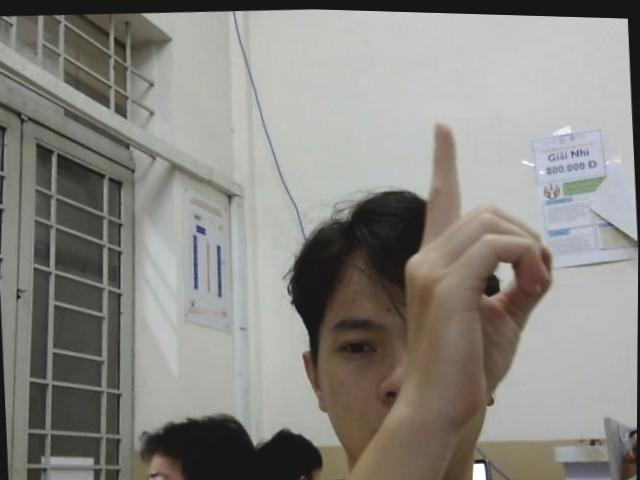D: (391, 112, 563, 419)
